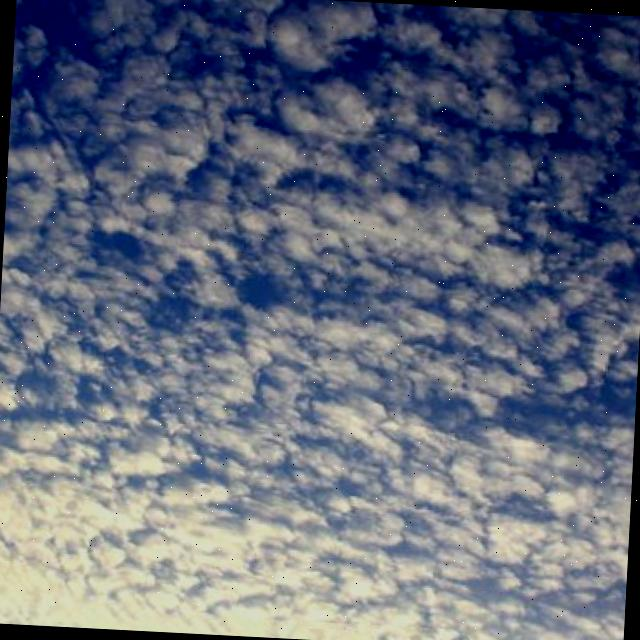Cc: (1, 29, 640, 518)
